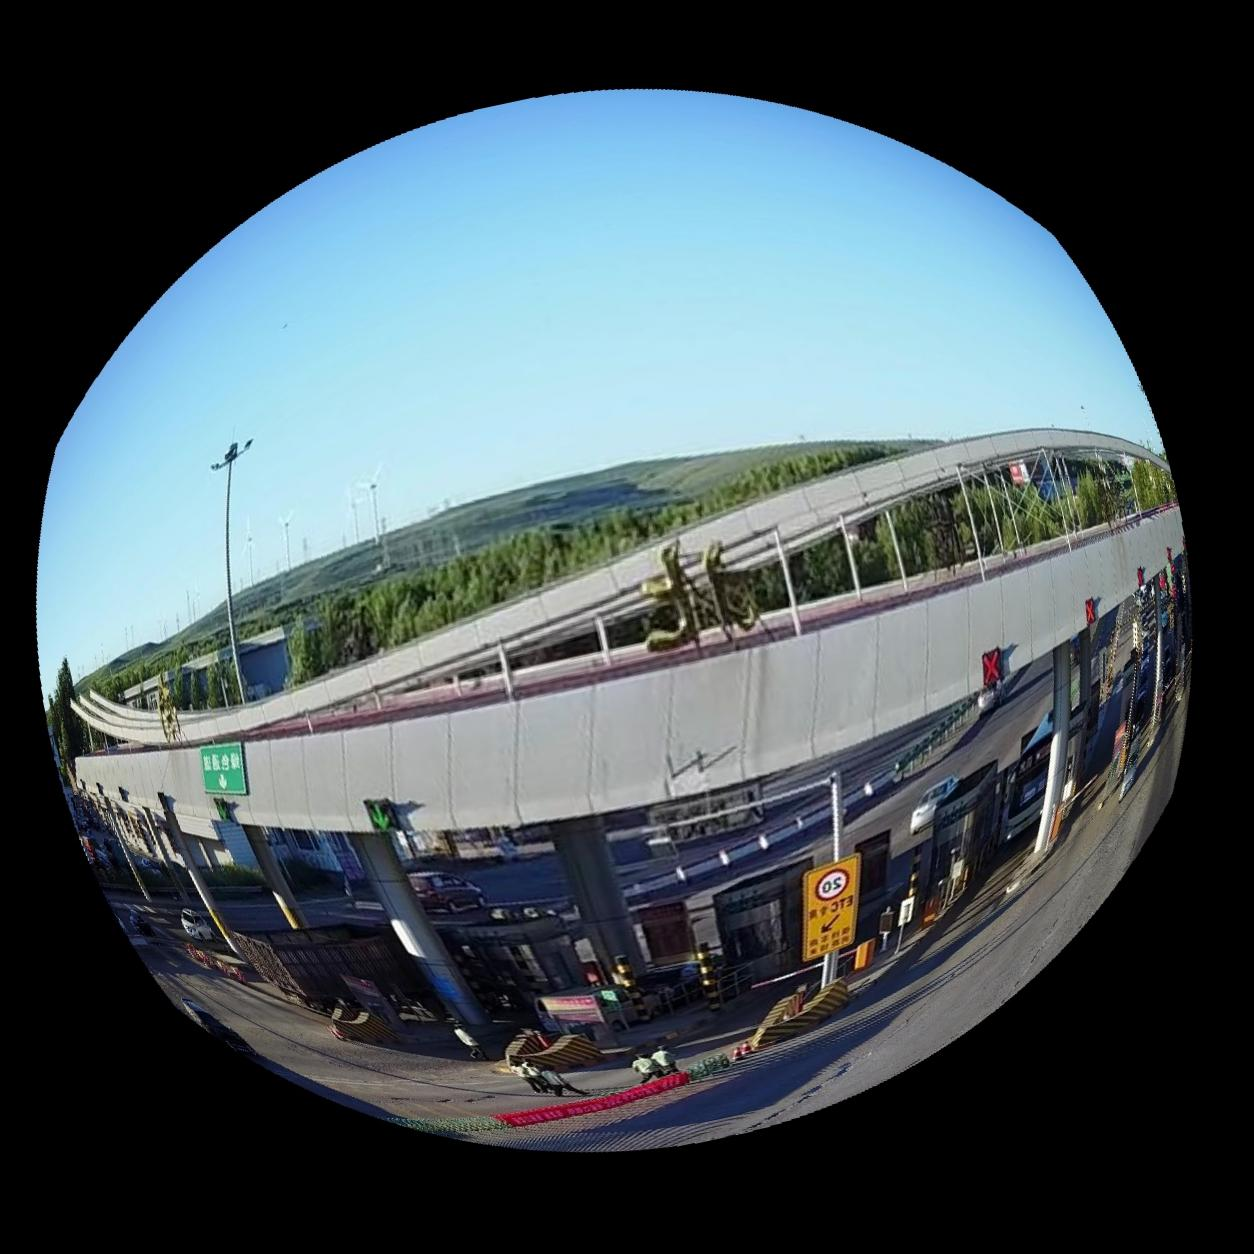building: (63, 428, 1191, 1074)
